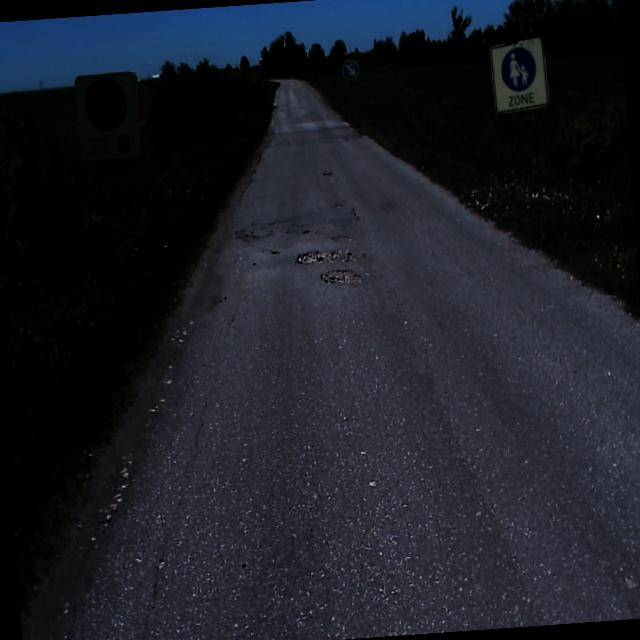road: (75, 79, 640, 640)
